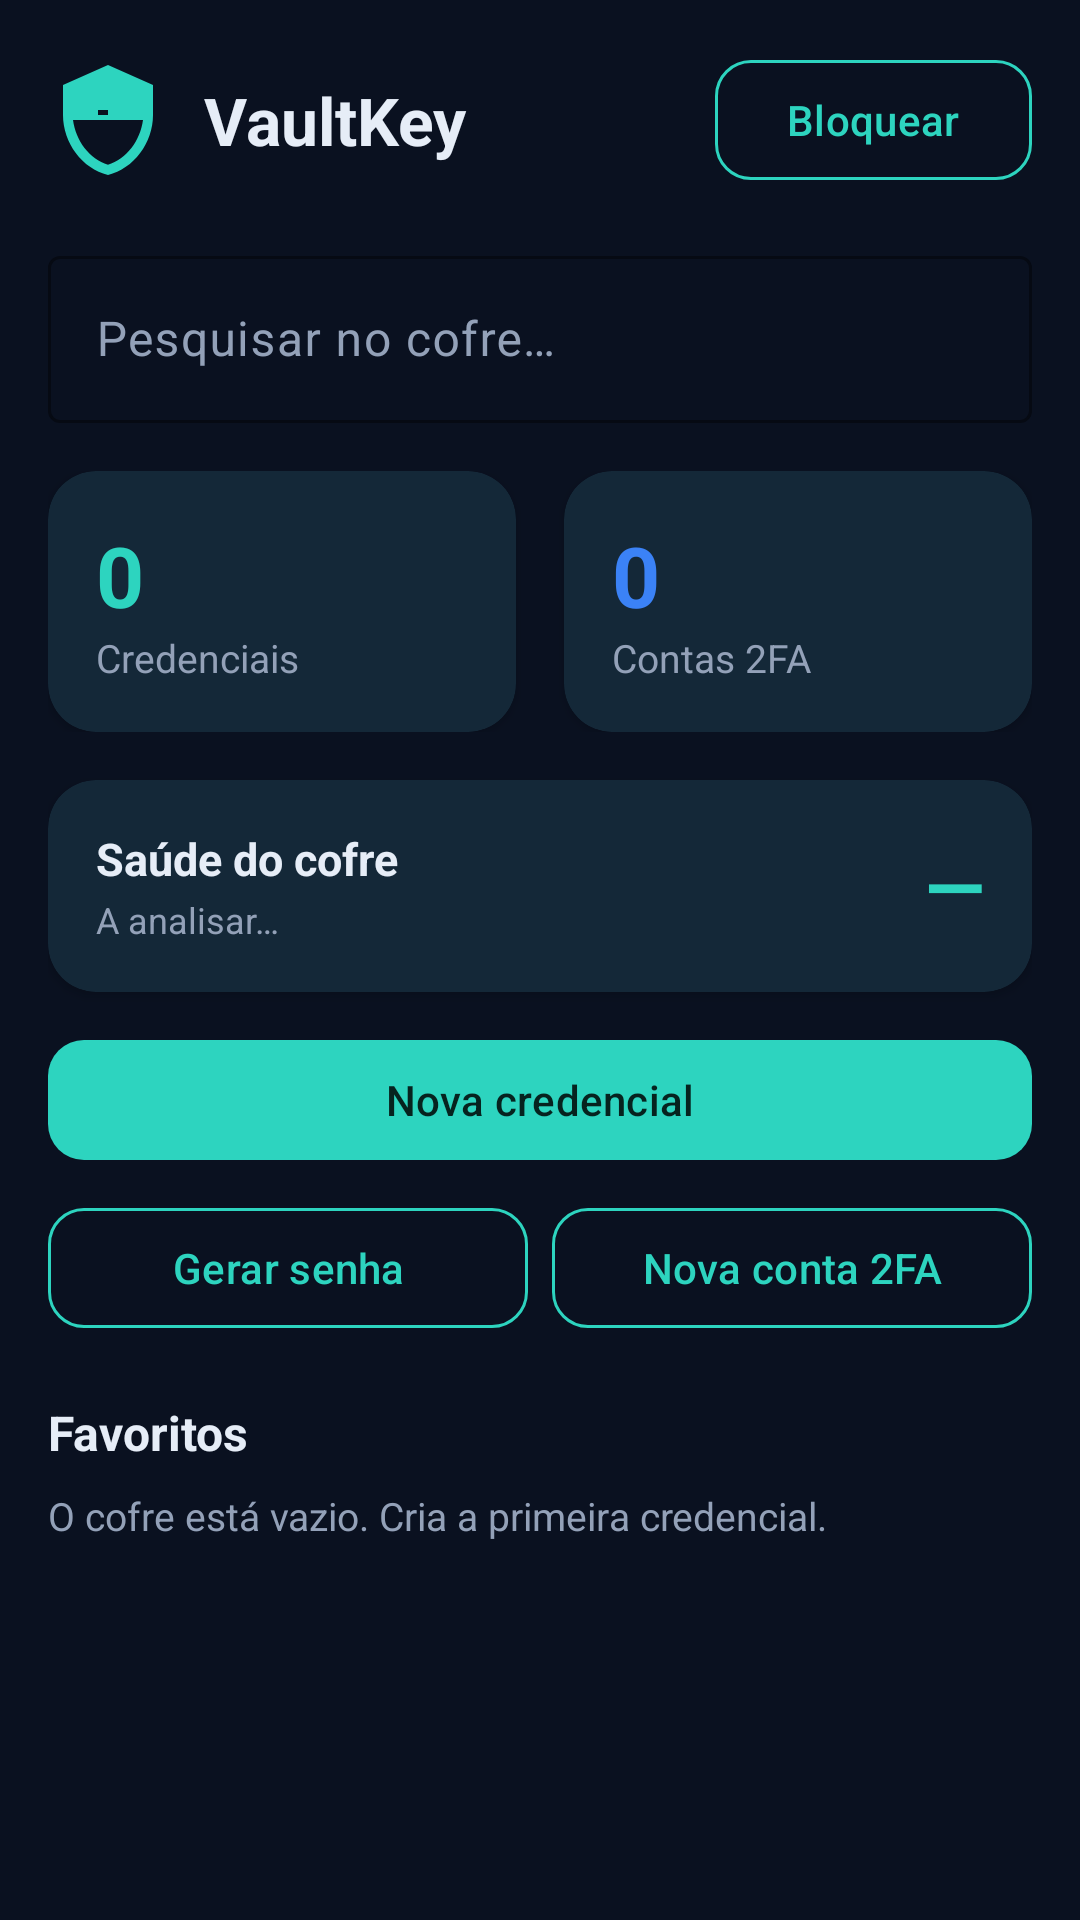

Named icons in this screenshot (1080px x 1920px) and their bounding boxes, box(x1, y1, x2, y2):
shield lock: box(63, 65, 153, 175)
